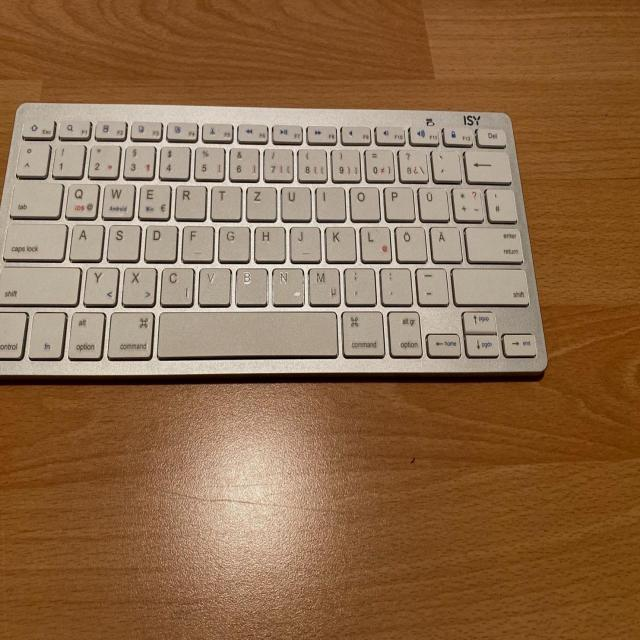0: (362, 145, 393, 180)
1: (50, 139, 84, 175)
2: (86, 141, 119, 176)
3: (121, 141, 155, 177)
4: (158, 142, 189, 177)
5: (192, 143, 224, 178)
6: (227, 144, 258, 179)
7: (261, 145, 293, 180)
8: (295, 145, 326, 180)
9: (329, 146, 360, 180)
a: (68, 220, 103, 259)
accent: (430, 146, 460, 180)
ae: (428, 223, 462, 261)
alt-left: (66, 307, 105, 359)
altgr-right: (385, 307, 422, 356)
b: (233, 264, 268, 305)
c: (158, 264, 194, 305)
caret: (14, 139, 48, 175)
comma: (342, 263, 375, 304)
d: (142, 221, 177, 260)
del: (463, 147, 510, 181)
e: (136, 180, 170, 218)
enter: (464, 223, 523, 261)
f: (180, 222, 213, 260)
g: (215, 222, 249, 261)
h: (252, 223, 285, 261)
hash: (485, 186, 517, 221)
i: (314, 183, 345, 220)
j: (287, 223, 320, 261)
k: (323, 223, 356, 261)
keyboard: (0, 100, 553, 385)
l: (358, 223, 390, 261)
m: (305, 264, 340, 305)
minus: (413, 264, 448, 304)
n: (270, 264, 304, 305)
o: (347, 183, 379, 220)
oe: (392, 223, 426, 261)
p: (382, 183, 414, 219)
plus: (451, 184, 483, 220)
point: (378, 264, 412, 303)
q: (62, 179, 98, 217)
r: (172, 181, 205, 219)
s: (104, 221, 139, 260)
shift-left: (0, 261, 81, 304)
shift-lock: (1, 219, 66, 259)
shift-right: (450, 264, 529, 304)
space: (156, 307, 338, 357)
ss: (396, 145, 427, 180)
strg-left: (0, 307, 27, 359)
t: (208, 182, 241, 219)
tab: (7, 177, 62, 216)
u: (278, 183, 311, 220)
ue: (416, 183, 448, 220)
v: (196, 264, 231, 305)
w: (99, 178, 134, 217)
x: (120, 263, 156, 304)
y: (81, 263, 118, 304)
z: (244, 183, 276, 220)
